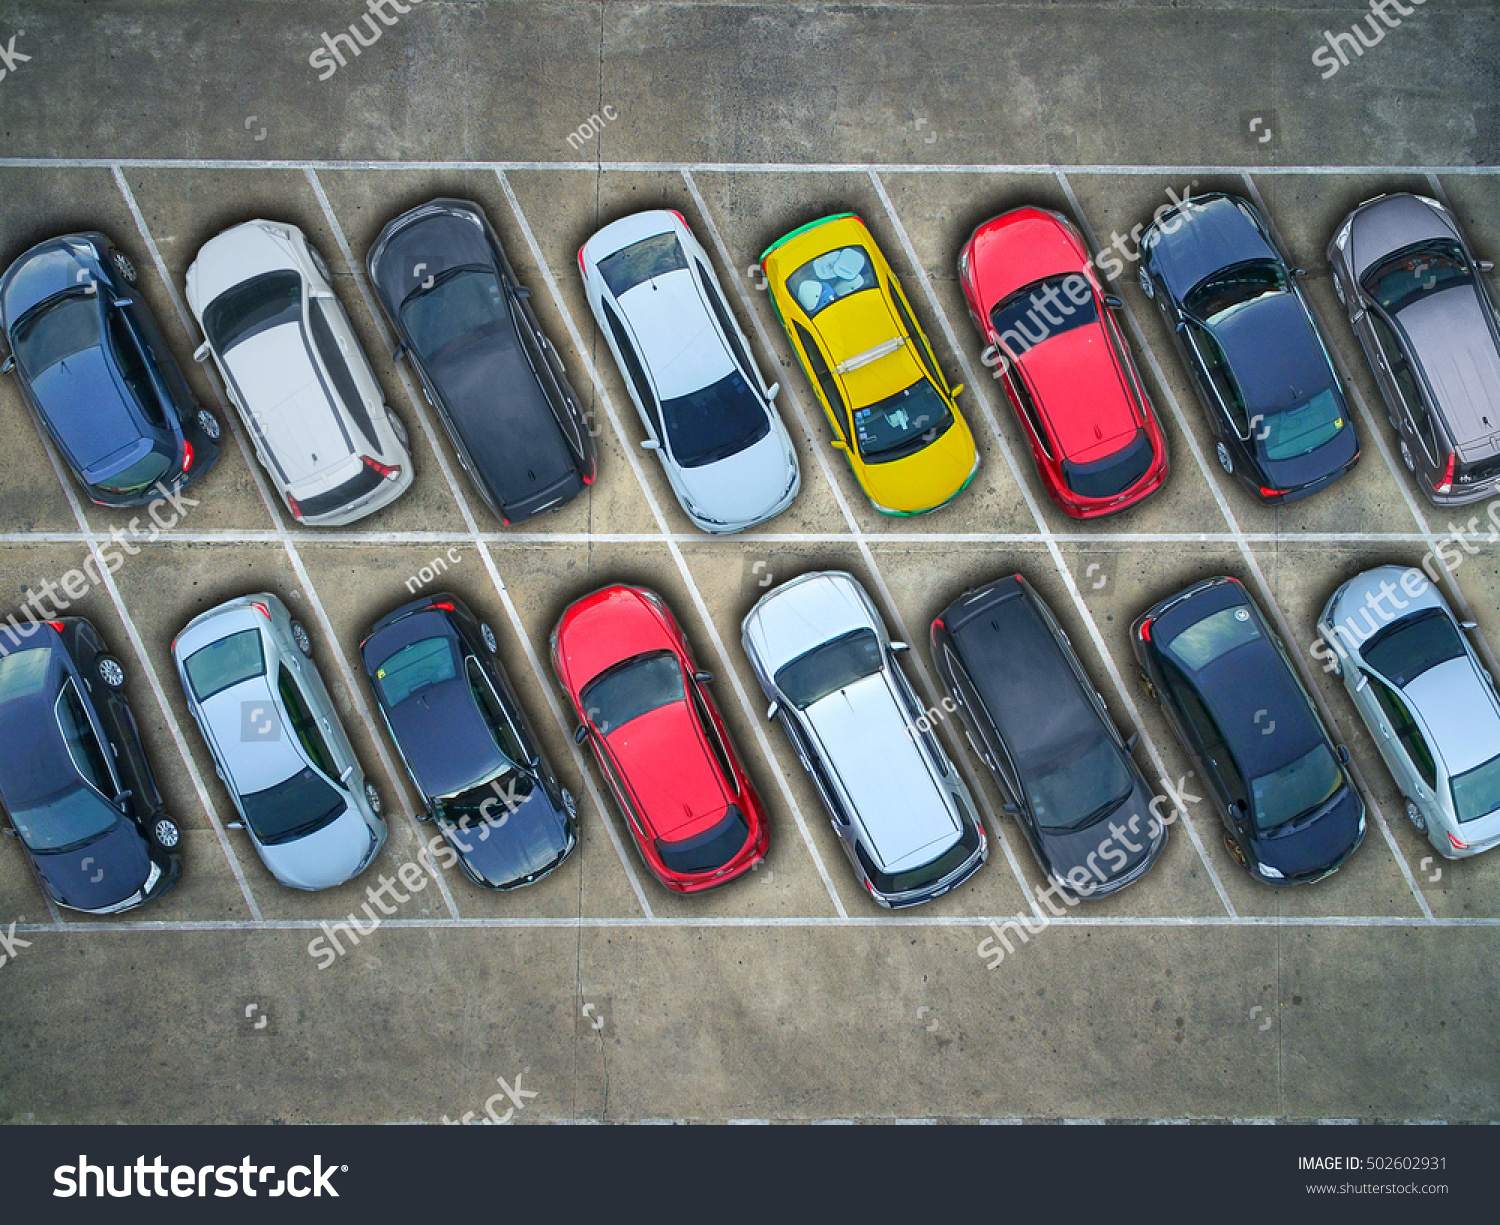Car: (728, 561, 1004, 918), (1109, 561, 1383, 902), (918, 558, 1181, 913), (330, 572, 605, 902), (529, 570, 781, 920), (1127, 178, 1365, 535), (156, 584, 415, 906), (756, 191, 985, 550), (370, 179, 598, 537), (552, 199, 807, 513), (181, 199, 422, 523), (1, 189, 233, 526), (948, 189, 1176, 522), (1304, 548, 1500, 872), (1318, 172, 1500, 516), (1, 604, 189, 928)
LaneMark: (6, 913, 1500, 936), (2, 160, 1500, 178), (4, 530, 1500, 545)
